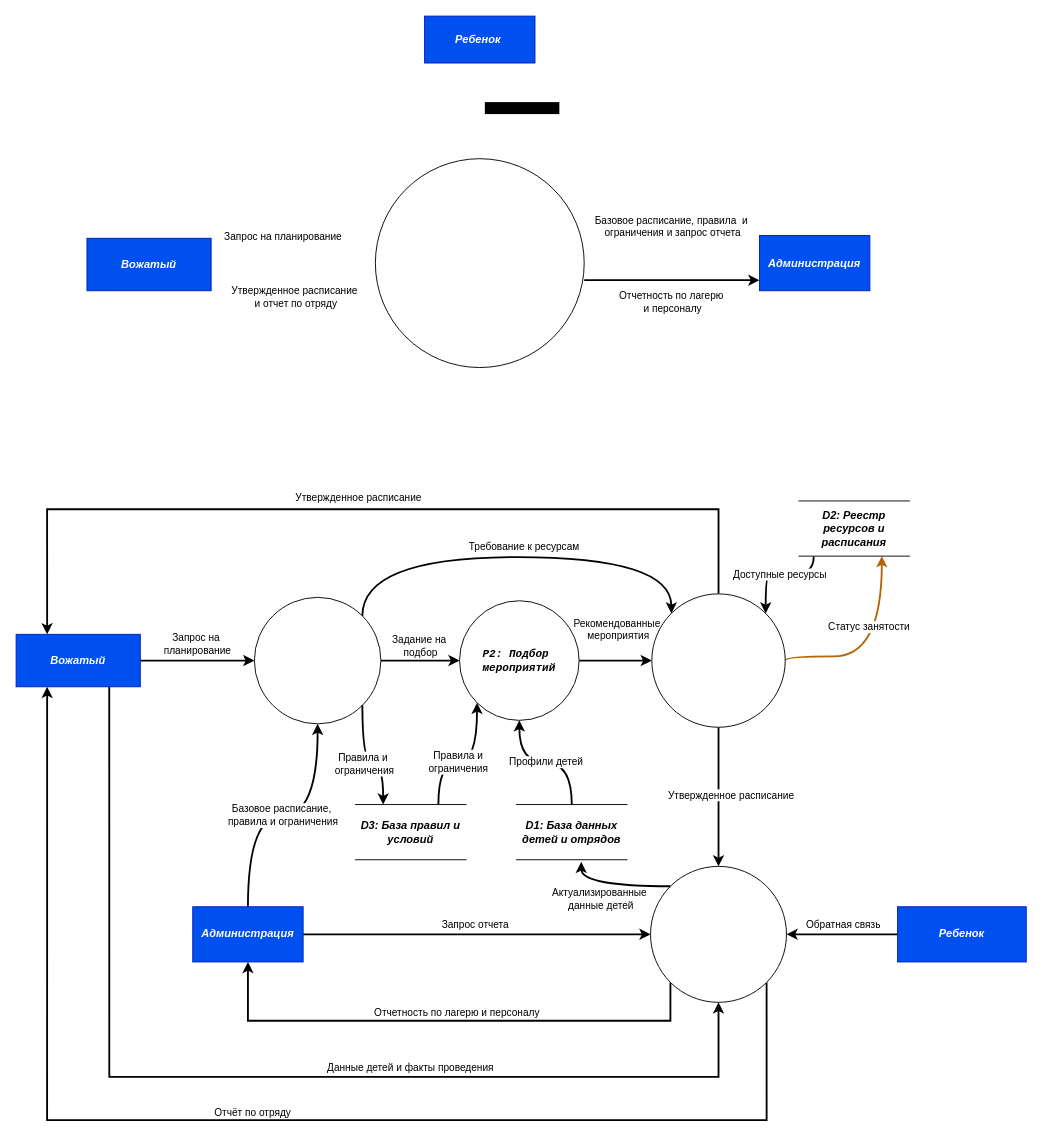
Image size: 1042x1144. Some labels were removed from this diagram. The box of each missing label's shape, as (x1, y1, x2, y2) in pixels:
P0: Управление планированием лагерной смены: (374, 158, 584, 368)
P1: Приём и обработка заявок: (253, 596, 381, 724)
P3: Распределение ресурсов: (651, 593, 785, 727)
P4: Учёт, контроль и отчётность: (650, 865, 787, 1002)
